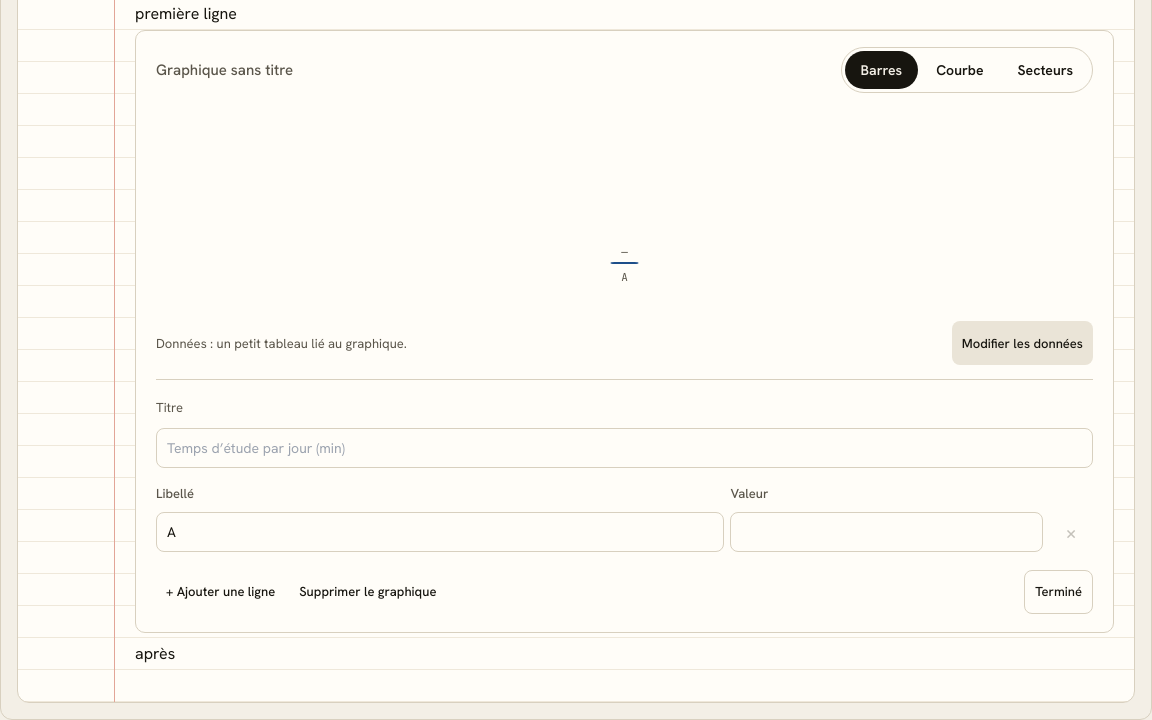
Scenario: charts in a note (YC-54) › typed values draw the chart and are saved with the note; every letter typed fast is kept
The width and height of the screenshot is (1152, 720).
(page scrolled)
// Two changes in a row, before the block redraws: the second starts from the first.
Type "Temps" into the field labelled "Titre" at (624, 448), box x1=156 y1=428 x2=1093 y2=468
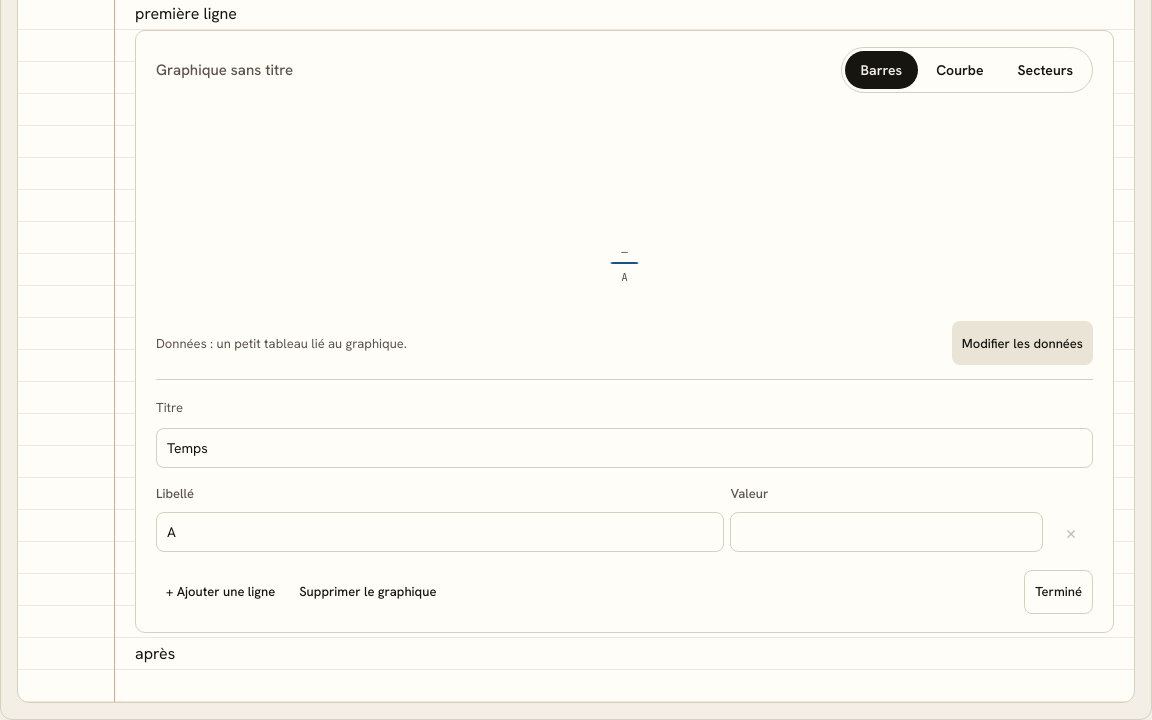
Type "12,5" into the field named "Valeur, ligne 1" at (887, 532), box x1=730 y1=512 x2=1043 y2=552
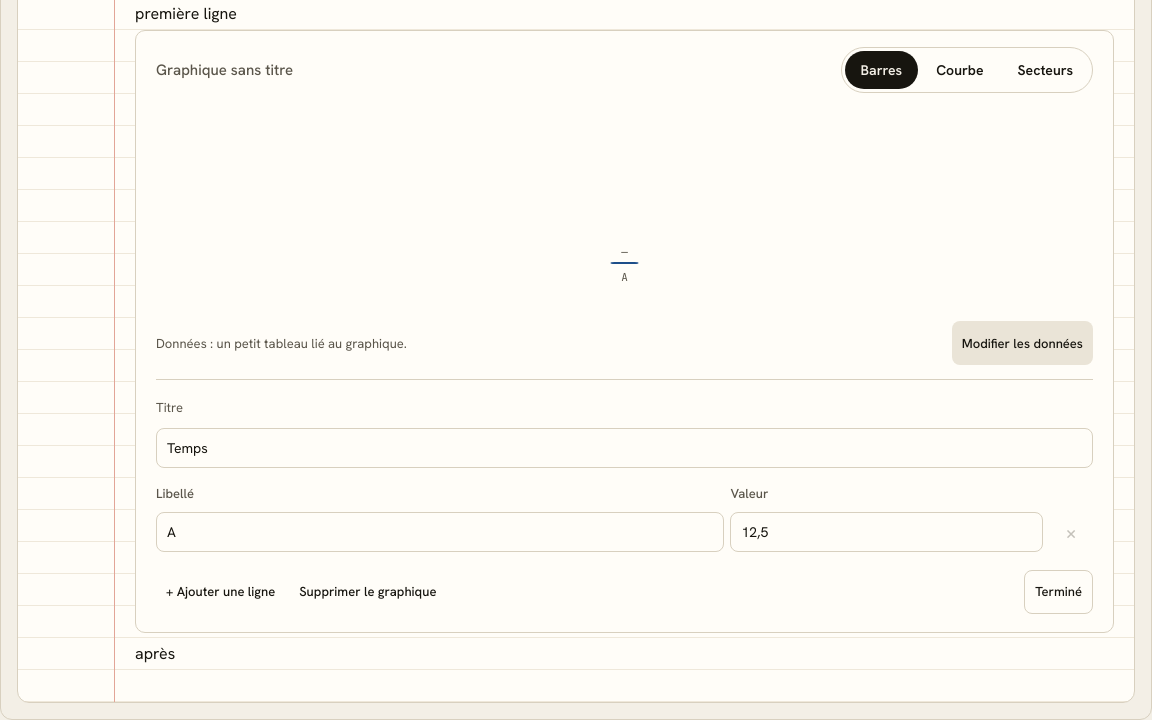
Click the button "+ Ajouter une ligne" at (221, 592), box x1=156 y1=570 x2=285 y2=614
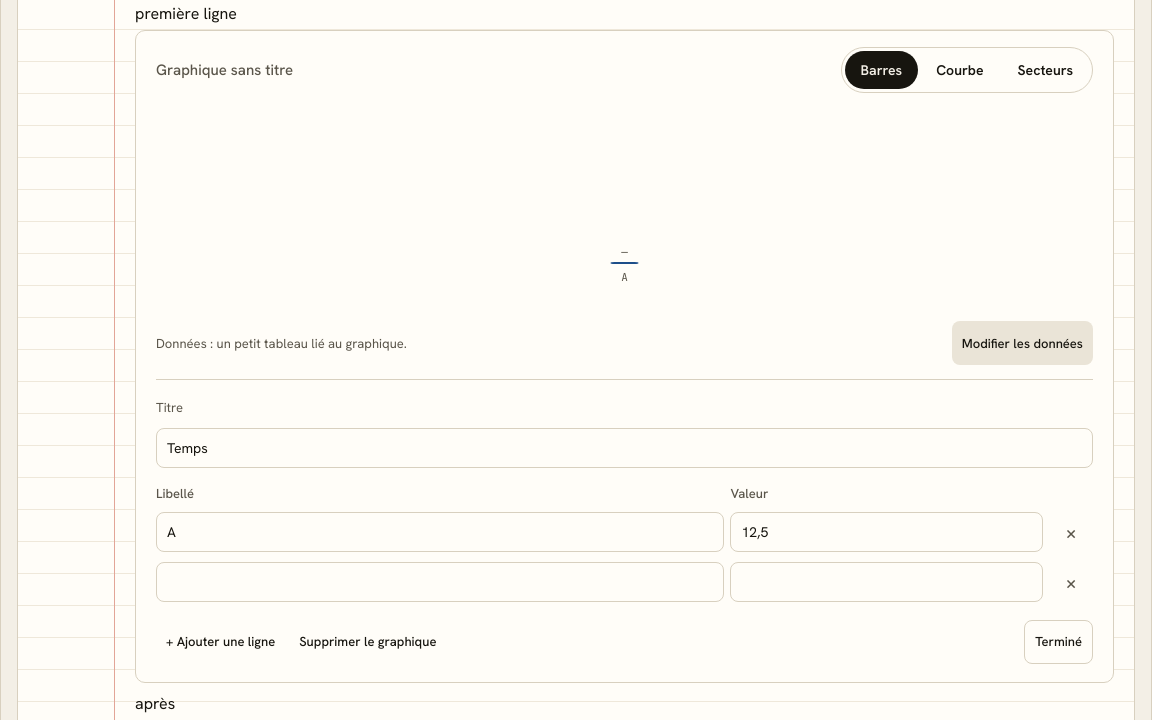
Type "B" into the field named "Libellé, ligne 2" at (440, 582), box x1=156 y1=562 x2=724 y2=602
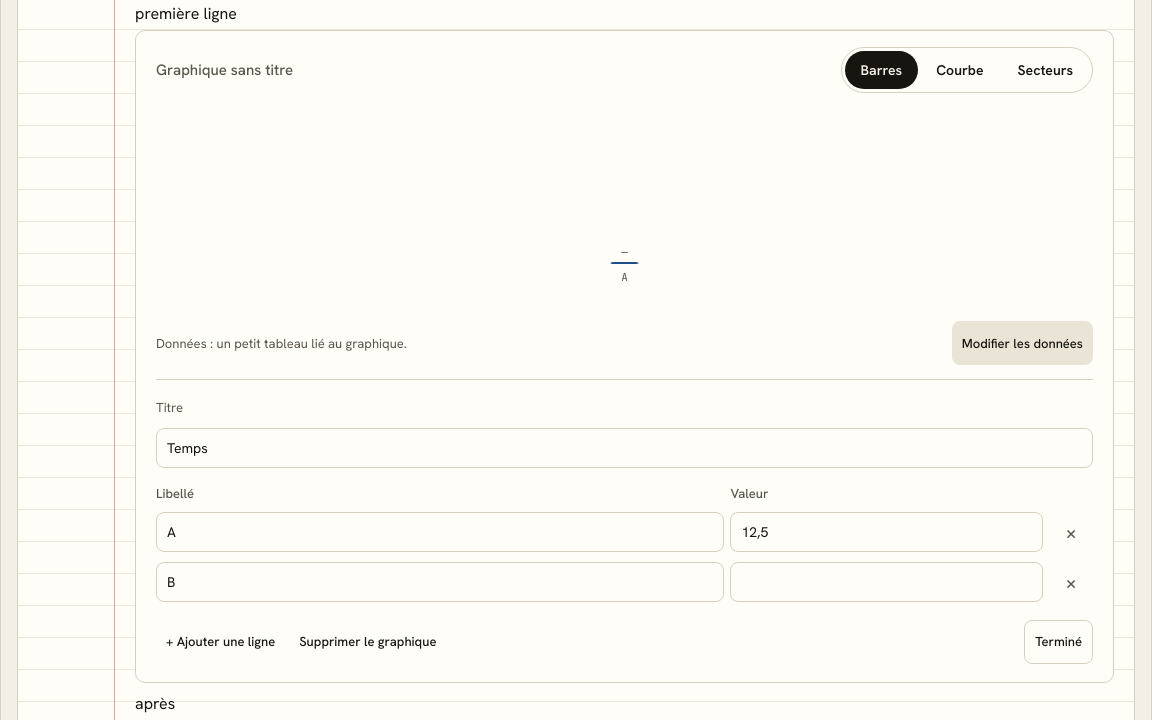
Type "40" into the field named "Valeur, ligne 2" at (887, 582), box x1=730 y1=562 x2=1043 y2=602
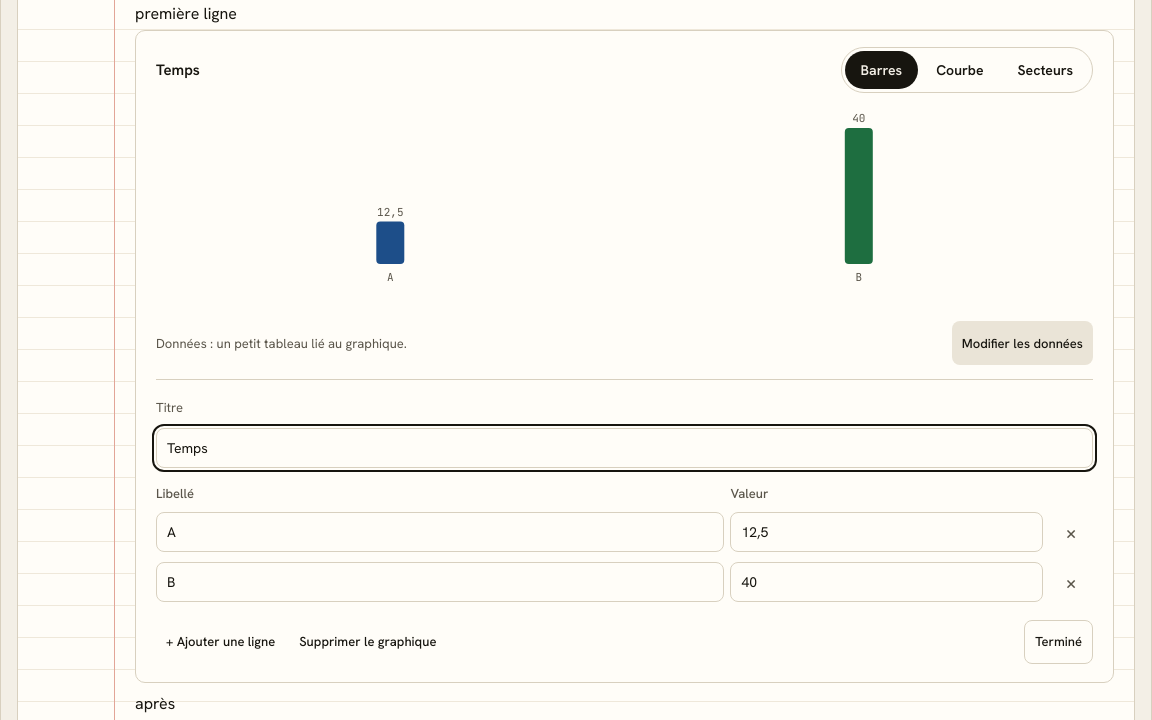
Expected: the picture named "Graphique, barres : Temps : A 12,5, B 40" is shown, x1=156 y1=107 x2=1093 y2=307
